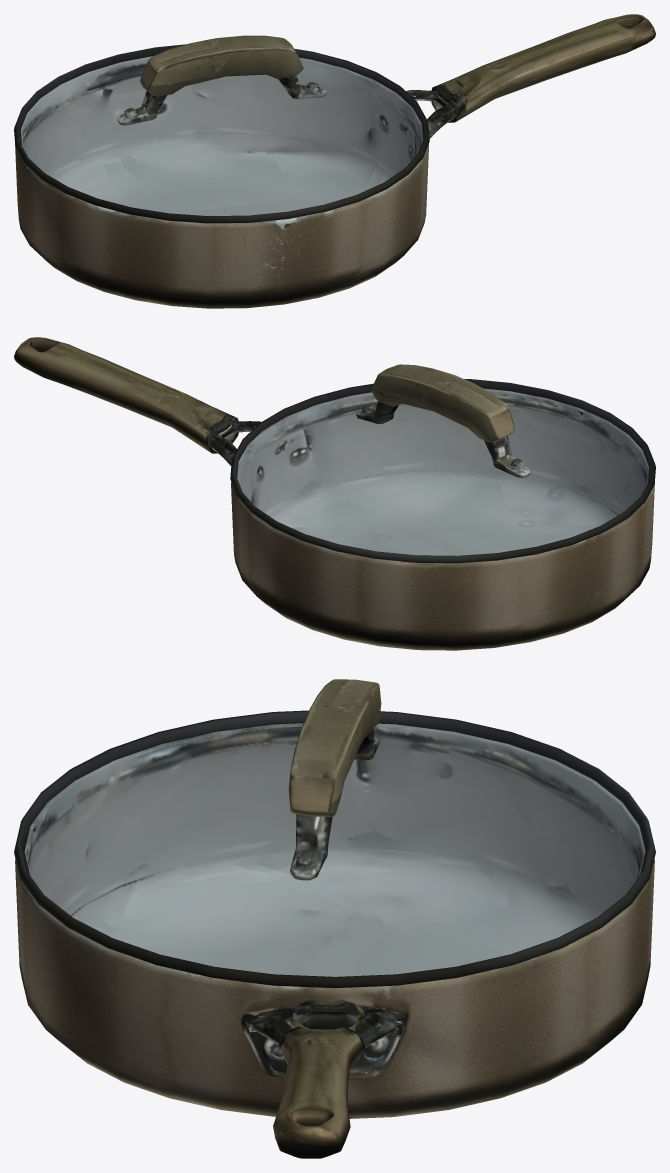
File: 027_skillet.dae
3 renders of one model, top to bottom at view 1: azimuth 30°, elevation 25°; view 2: azimuth 150°, elevation 25°; view 3: azimuth 270°, elevation 25°, orthographic. The views are drawn at different scales.
Parts seen in each view (by area): view 1: 027_skillet; view 2: 027_skillet; view 3: 027_skillet.
Part boxes in pixels (x1,y1,x2,y2): 027_skillet: (14, 14, 655, 308); 027_skillet: (14, 337, 655, 650); 027_skillet: (14, 679, 655, 1158).
Bounding box in the file's own units: 0.447 × 0.2686 × 0.1337.
Materials: 2 (1 with a texture image).
